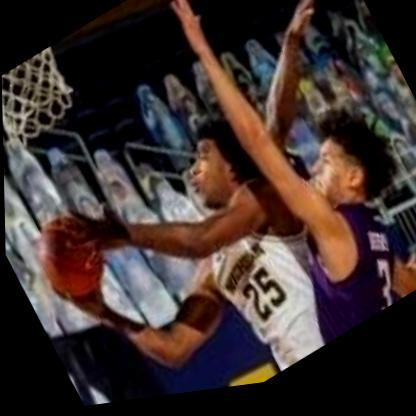basketball: (22, 201, 115, 314)
